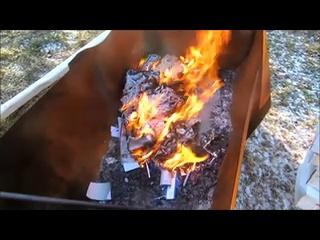Fire: (121, 34, 201, 166)
